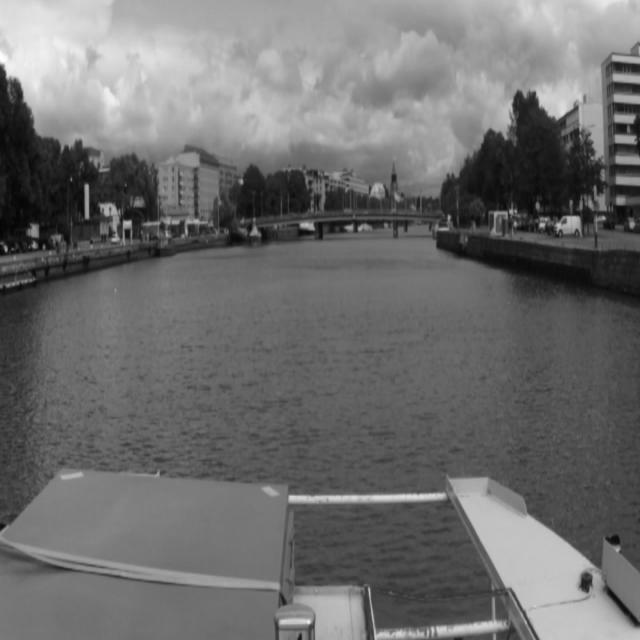ship: (227, 221, 247, 247), (158, 238, 176, 259), (249, 225, 263, 242)
